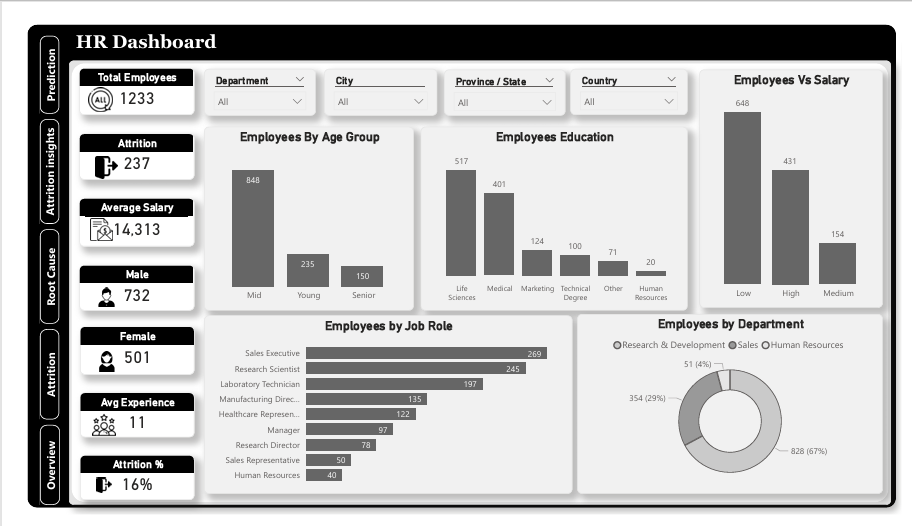

Layout of this report page (visuals, bound fields, positions):
{"tool":"powerbi","page":{"name":"Overview","canvas":[1280,720],"ordinal":0},"visuals":[{"type":"shape","box":[12.5,9,1259.1,701.2],"z":0},{"type":"shape","box":[73.4,60.9,1191.9,644.8],"z":1000},{"type":"shape","box":[74.3,8.6,221.4,50],"z":2000},{"type":"actionButton","box":[31.4,590,28.6,115.7],"z":3000},{"type":"actionButton","box":[30.8,450.6,28.7,131.6],"z":4000},{"type":"actionButton","box":[30.8,306.4,28.7,136.1],"z":5000},{"type":"actionButton","box":[30.8,146.1,28.7,152.2],"z":6000},{"type":"actionButton","box":[30.8,25.2,28.7,112.8],"z":7000},{"type":"card","title":"Total Employees","fields":{"Values":["Key-Measures.Total Employees"]},"box":[88.1,72.1,166.7,68.3],"z":8000},{"type":"card","title":"Attrition ","fields":{"Values":["Key-Measures.Attrition Yes"]},"box":[88.1,167.2,166.7,66.7],"z":9000},{"type":"card","title":"Average Salary","fields":{"Values":["Key-Measures.Avg Salary"]},"box":[88.1,260.7,166.7,70],"z":10000},{"type":"card","title":"Male","fields":{"Values":["Key-Measures.Male"]},"box":[88.1,357.5,166.7,66.7],"z":11000},{"type":"card","title":"Female","fields":{"Values":["Key-Measures.Female"]},"box":[88.6,447.4,166.3,69.7],"z":12000},{"type":"card","title":"Avg Experience","fields":{"Values":["Key-Measures.Avg Experience"]},"box":[88.6,542.9,166.3,64.8],"z":13000},{"type":"card","title":"Attrition %","fields":{"Values":["Key-Measures.Attrition %"]},"box":[88.6,634.5,166.3,64.8],"z":14000},{"type":"slicer","title":"Department","fields":{"Values":["DIM_Department.Department"]},"box":[268.6,72.9,162.9,68.6],"z":15000},{"type":"slicer","title":"City","fields":{"Values":["DIM_Location.City"]},"box":[442.9,72.9,164.3,68.6],"z":16000},{"type":"slicer","title":"Province / State","fields":{"Values":["Geo.Province / State"]},"box":[617.1,74.3,175.7,67.1],"z":17000},{"type":"slicer","title":"Country","fields":{"Values":["Geo.Country"]},"box":[800,72.9,170,67.1],"z":18000},{"type":"columnChart","title":"Employees Vs Salary","fields":{"Y":["Key-Measures.Total Employees"],"Category":["FACT_Employee_Records.Salary Band New"]},"box":[987.1,74.3,265.7,345.7],"z":19000},{"type":"columnChart","title":"Employees By Age Group","fields":{"Y":["Key-Measures.Total Employees"],"Category":["DIM_Employee.Age Group"]},"box":[268.6,157.1,304.3,267.1],"z":20000},{"type":"columnChart","title":"Employees Education","fields":{"Y":["Key-Measures.Total Employees"],"Category":["DIM_Employee.EducationField"]},"box":[582.9,157.1,387.1,267.1],"z":21000},{"type":"barChart","title":"Employees by Job Role","fields":{"Category":["DIM_Employee.JobRole"],"Y":["Key-Measures.Total Employees"]},"box":[268.6,431.4,534.3,258.6],"z":22000},{"type":"donutChart","title":"Employees by Department","fields":{"Category":["DIM_Department.Department"],"Y":["Key-Measures.Total Employees"]},"box":[810,428.6,442.9,261.4],"z":23000},{"type":"image","box":[101.7,290,35.8,33.3],"z":24000},{"type":"image","box":[104.2,482.5,46.7,30],"z":25000},{"type":"image","box":[106.7,390.8,41.7,29.2],"z":26000},{"type":"image","box":[110.8,193.3,33.3,46.7],"z":27000},{"type":"image","box":[101.2,94.9,35.8,46.6],"z":28000},{"type":"image","box":[93.3,572.5,60.8,34.2],"z":29000},{"type":"image","box":[108.3,666.7,30.8,22.5],"z":30000}]}

Visuals, with their boxes in screenshot pixels (x1, y1, x2, y2), scaled from the page's 1280x720 canvas onto the 912x526 screenshot:
shape: (9,7,906,519)
shape: (52,44,902,516)
shape: (53,6,211,43)
actionButton: (22,431,43,516)
actionButton: (22,329,42,425)
actionButton: (22,224,42,323)
actionButton: (22,107,42,218)
actionButton: (22,18,42,101)
"Total Employees" card: (63,53,182,103)
"Attrition " card: (63,122,182,171)
"Average Salary" card: (63,190,182,242)
"Male" card: (63,261,182,310)
"Female" card: (63,327,182,378)
"Avg Experience" card: (63,397,182,444)
"Attrition %" card: (63,464,182,511)
"Department" slicer: (191,53,307,103)
"City" slicer: (316,53,433,103)
"Province / State" slicer: (440,54,565,103)
"Country" slicer: (570,53,691,102)
"Employees Vs Salary" columnChart: (703,54,893,307)
"Employees By Age Group" columnChart: (191,115,408,310)
"Employees Education" columnChart: (415,115,691,310)
"Employees by Job Role" barChart: (191,315,572,504)
"Employees by Department" donutChart: (577,313,893,504)
image: (72,212,98,236)
image: (74,352,108,374)
image: (76,286,106,307)
image: (79,141,103,175)
image: (72,69,98,103)
image: (66,418,110,443)
image: (77,487,99,503)
